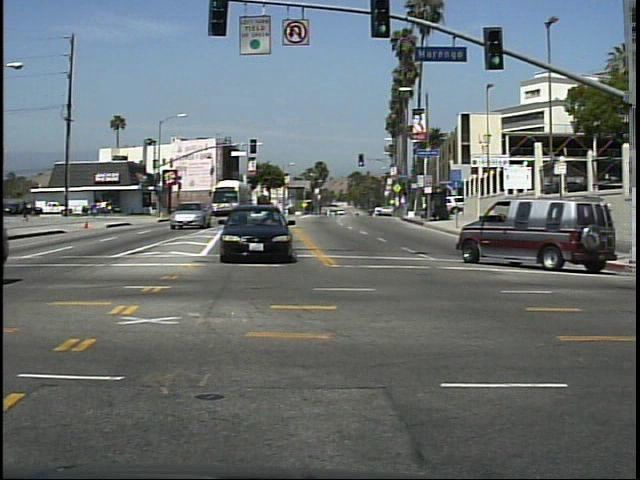person: (17, 196, 34, 224)
